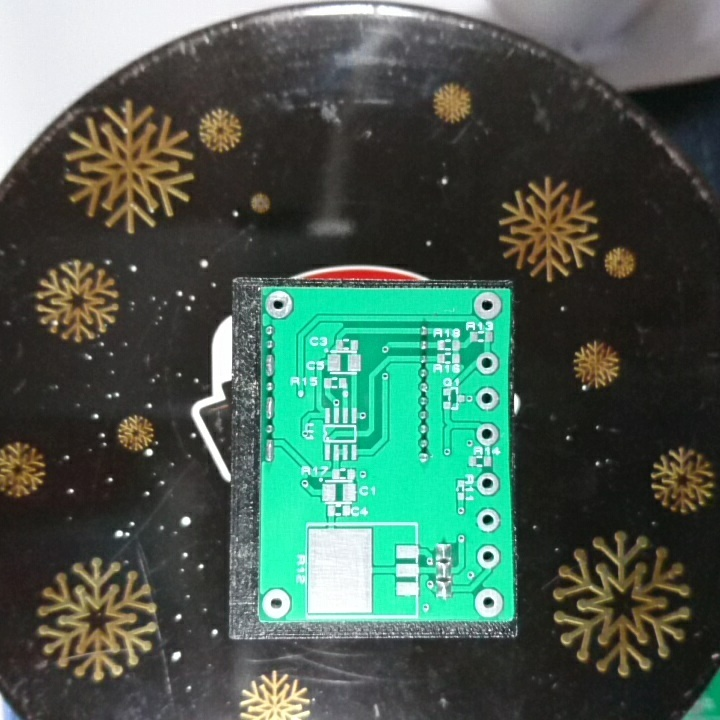F: (261, 586, 294, 622), (262, 288, 295, 321), (472, 289, 505, 322), (473, 586, 505, 619), (474, 506, 503, 535), (474, 420, 502, 448), (474, 542, 502, 570), (474, 470, 501, 499), (474, 386, 503, 412), (474, 350, 502, 375)
P: (262, 352, 279, 380), (262, 436, 277, 465), (263, 394, 278, 421)
